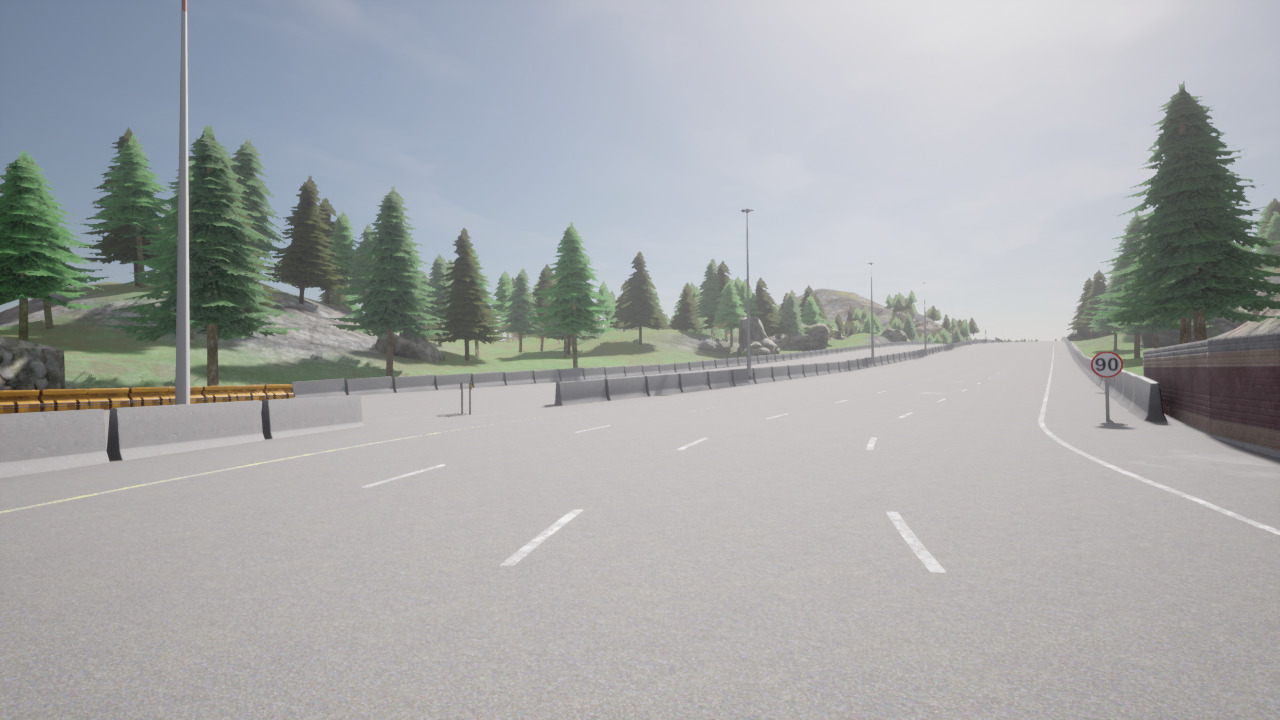sl90: (1090, 351, 1124, 379)
